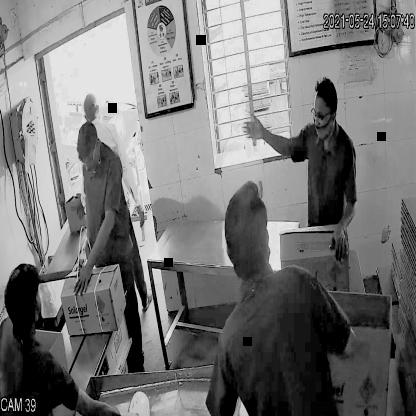goggles: (309, 103, 336, 125)
